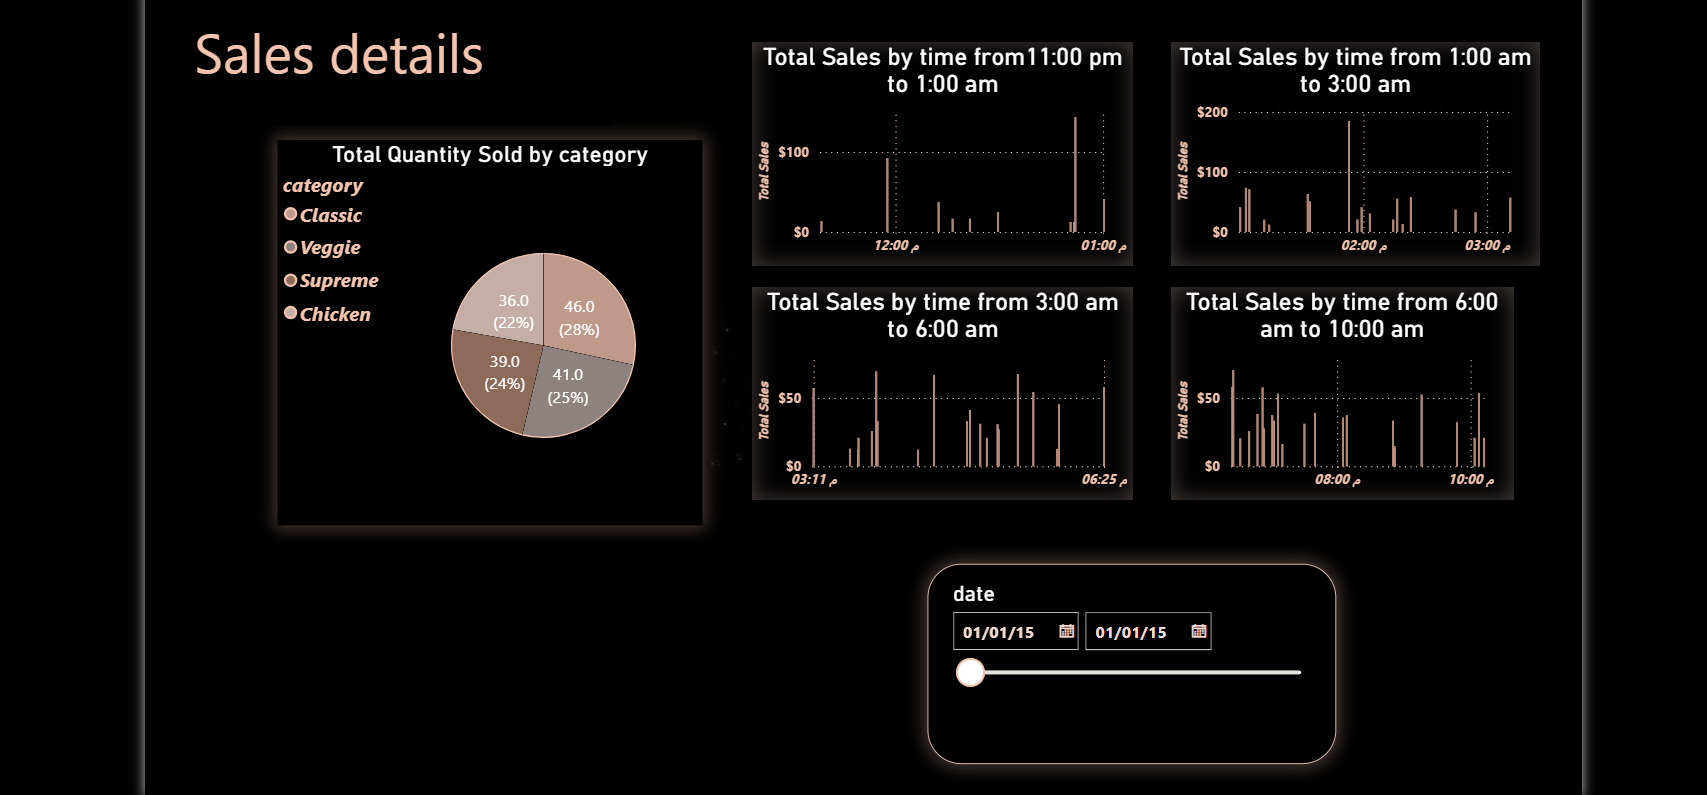

The dashboard page shown, as its layout file describes it:
{"tool":"powerbi","page":{"name":" Sales details","canvas":[1280,720],"ordinal":3},"visuals":[{"type":"columnChart","title":"Total Sales by time from 1:00 am to 3:00 am","fields":{"Y":["measures_table.Total Sales"],"Category":["orders_Lookup.time"]},"box":[913.9,46.7,328,199],"z":0},{"type":"pieChart","fields":{"Category":["pizza_types_Lookup.category"],"Y":["measures_table.Total Quantity Sold"]},"box":[118,133.1,378.7,343.1],"z":1000},{"type":"slicer","fields":{"Values":["orders_Lookup.date"]},"box":[697.1,510.5,363.6,178.4],"z":2000},{"type":"textbox","box":[38.4,16.5,377.4,104.3],"z":3000},{"type":"columnChart","title":"Total Sales by time from11:00 pm to 1:00 am","fields":{"Y":["measures_table.Total Sales"],"Category":["orders_Lookup.time"]},"box":[540.7,46.7,338.9,199],"z":4000},{"type":"columnChart","title":"Total Sales by time from 3:00 am to 6:00 am","fields":{"Y":["measures_table.Total Sales"],"Category":["orders_Lookup.time"]},"box":[540.7,264.8,338.9,189.4],"z":5000},{"type":"columnChart","title":"Total Sales by time from 6:00 am to 10:00 am","fields":{"Y":["measures_table.Total Sales"],"Category":["orders_Lookup.time"]},"box":[913.9,264.8,304.6,189.4],"z":6000}]}

Visuals, with their boxes on the page's 1280x720 design canvas (x1, y1, x2, y2). These are canvas units, not pixel positions in the 1707x795 screenshot, which may show the page scaled, cropped or inside an application window:
"Total Sales by time from 1:00 am to 3:00 am" columnChart: BBox(914, 47, 1242, 246)
pieChart - pizza_types_Lookup.category x measures_table.Total Quantity Sold: BBox(118, 133, 497, 476)
slicer - orders_Lookup.date: BBox(697, 510, 1061, 689)
textbox: BBox(38, 16, 416, 121)
"Total Sales by time from11:00 pm to 1:00 am" columnChart: BBox(541, 47, 880, 246)
"Total Sales by time from 3:00 am to 6:00 am" columnChart: BBox(541, 265, 880, 454)
"Total Sales by time from 6:00 am to 10:00 am" columnChart: BBox(914, 265, 1218, 454)
